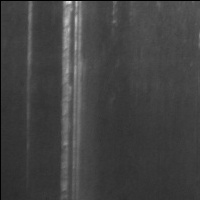scratches: (58, 1, 85, 200), (23, 1, 36, 143)
